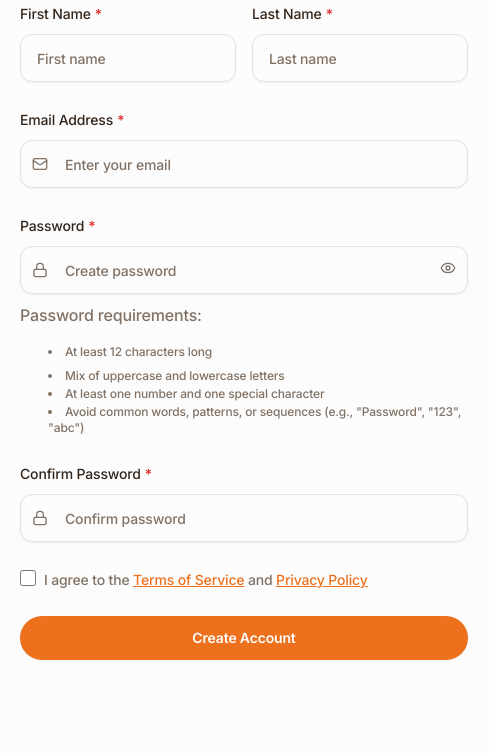
Test: RegistrationForm › Password Strength Calculation - Length Scoring › empty password returns 0 strength
// Type then clear
Type "test" into the password field with test id "password-input" at x=244, y=270, box [20,246,468,294]
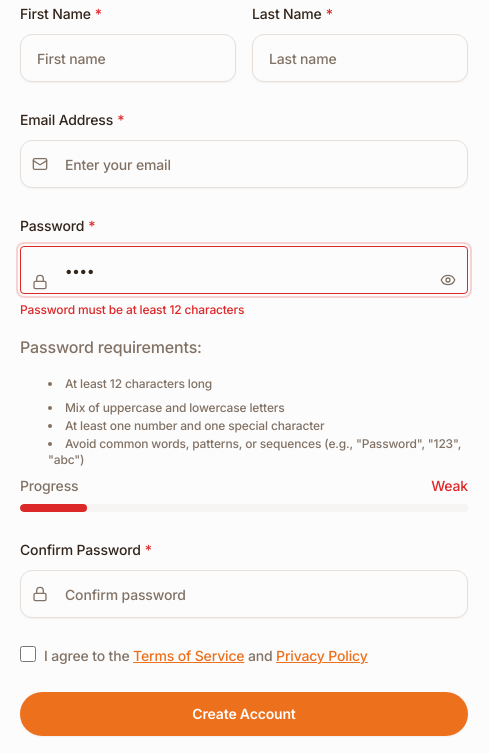
Clear the password field with test id "password-input" at x=244, y=270, box [20,246,468,294]
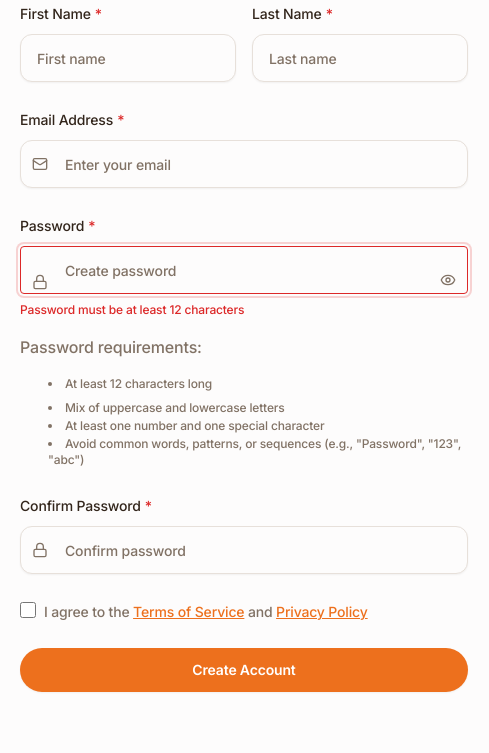
expect the element with test id "strength-bar" is gone: met
